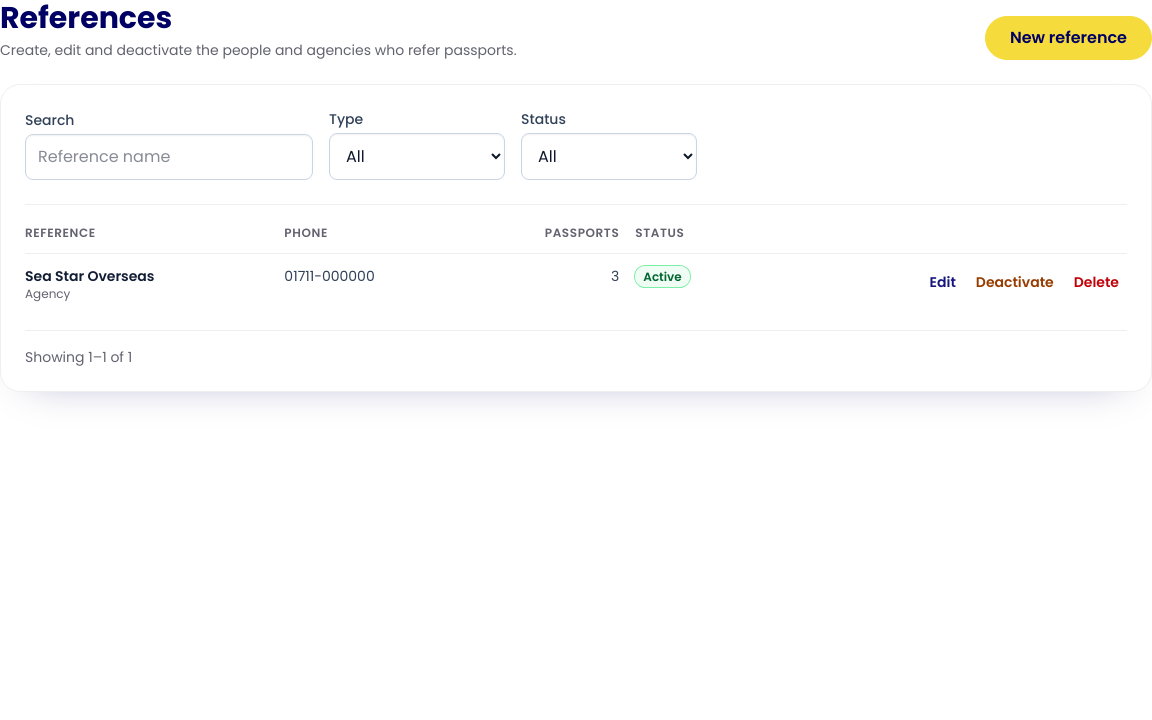
Scenario: References (operations head) › requires the name
This screenshot has width=1152, height=720.
Click the button "New reference". click: (1068, 38)
box: x1=985 y1=16 x2=1151 y2=60
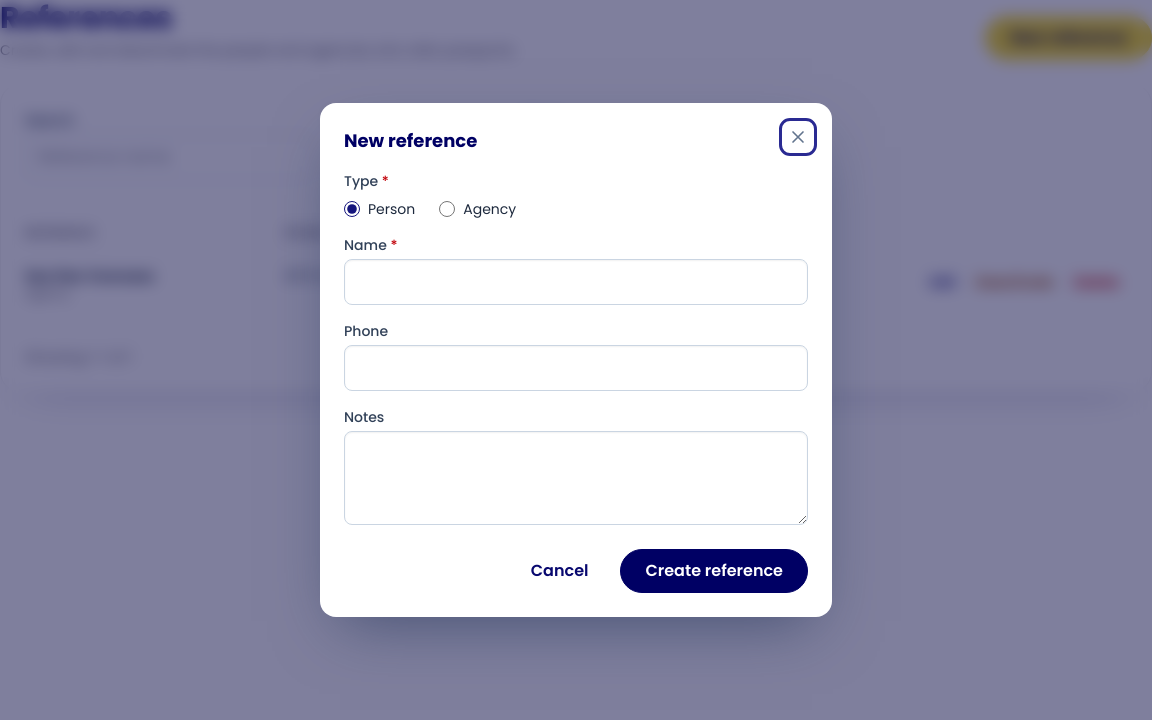
Submit the form, box x1=344 y1=171 x2=808 y2=593
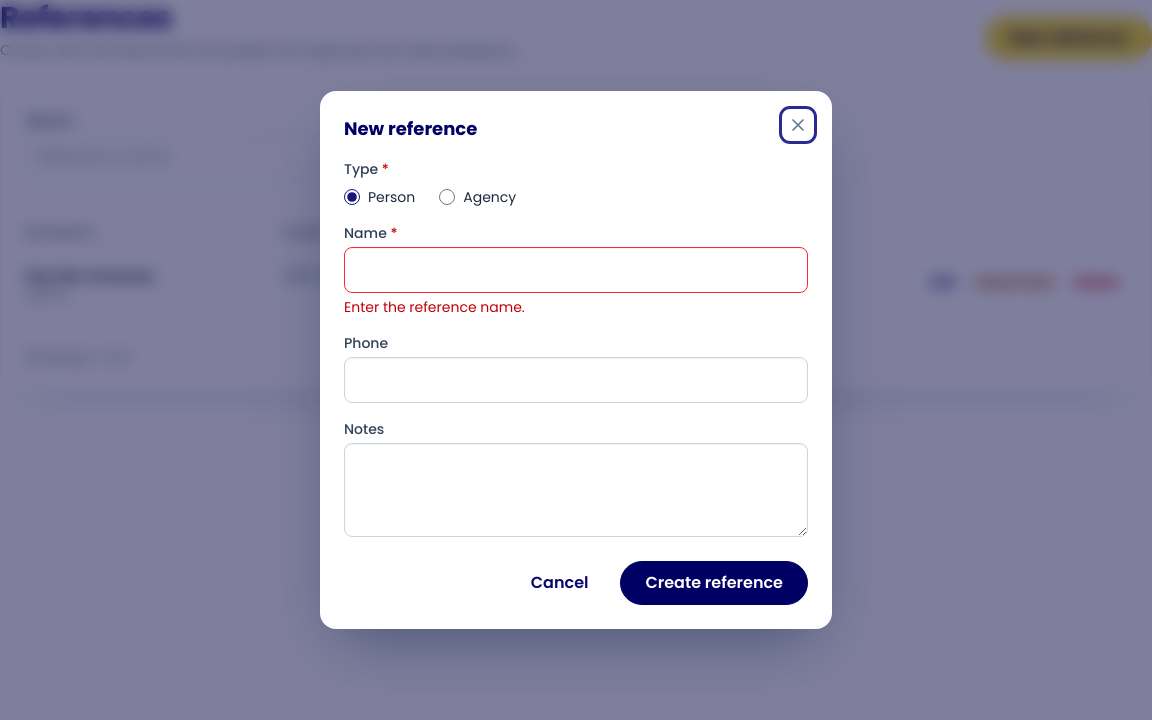
Expected: the element showing "Name * Enter the reference name." is shown, x1=344 y1=223 x2=808 y2=317
